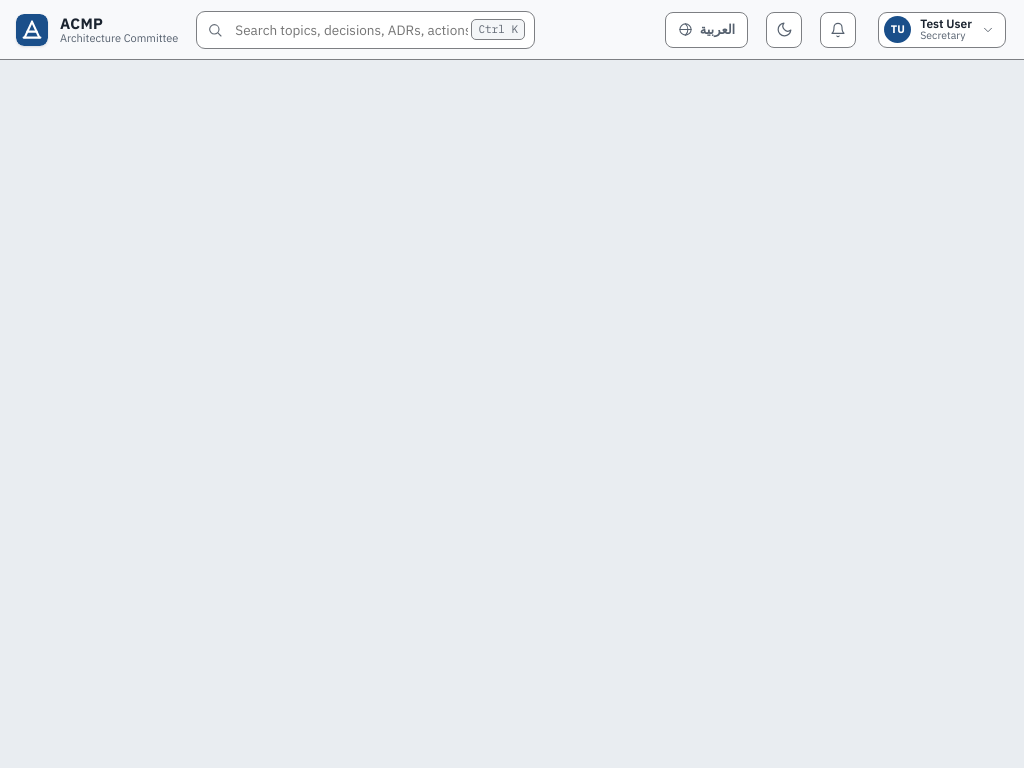
TopBar controls › closes the profile menu by clicking the backdrop
This screenshot has width=1024, height=768.
Click the button "TU Test User Secretary": coordinates (942, 30) [878,12,1006,48]
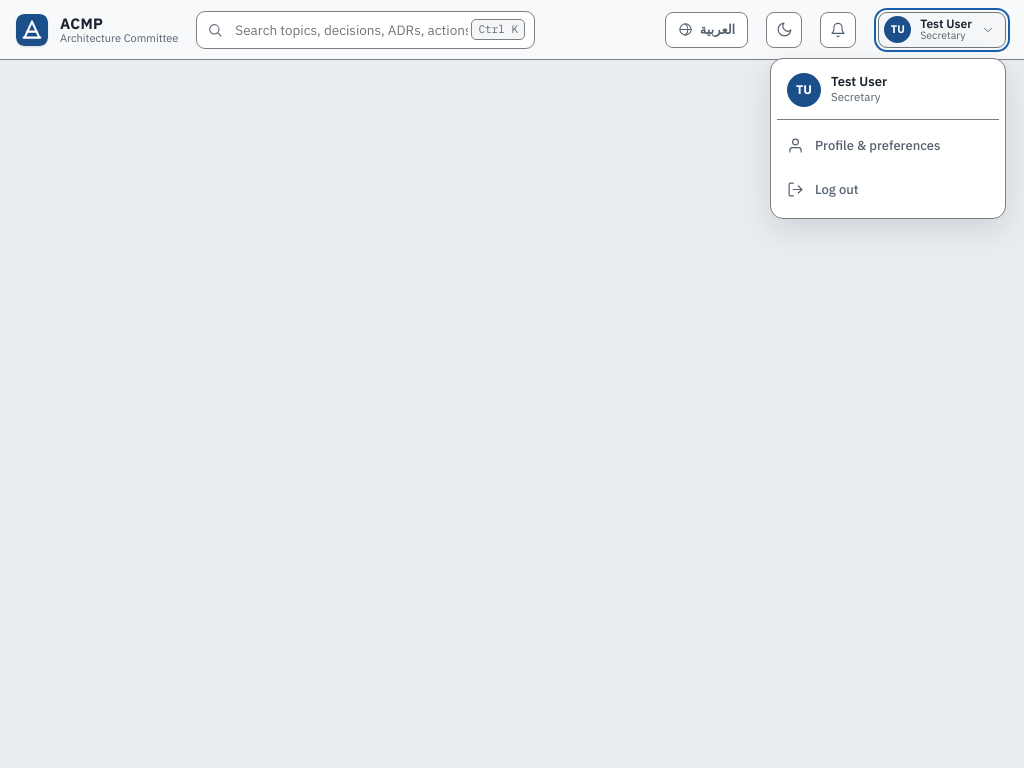
Expected: the menu is shown, [770,58,1006,218]
Click the element with class "profile-backdrop": coordinates (512, 384) [0,0,1023,767]
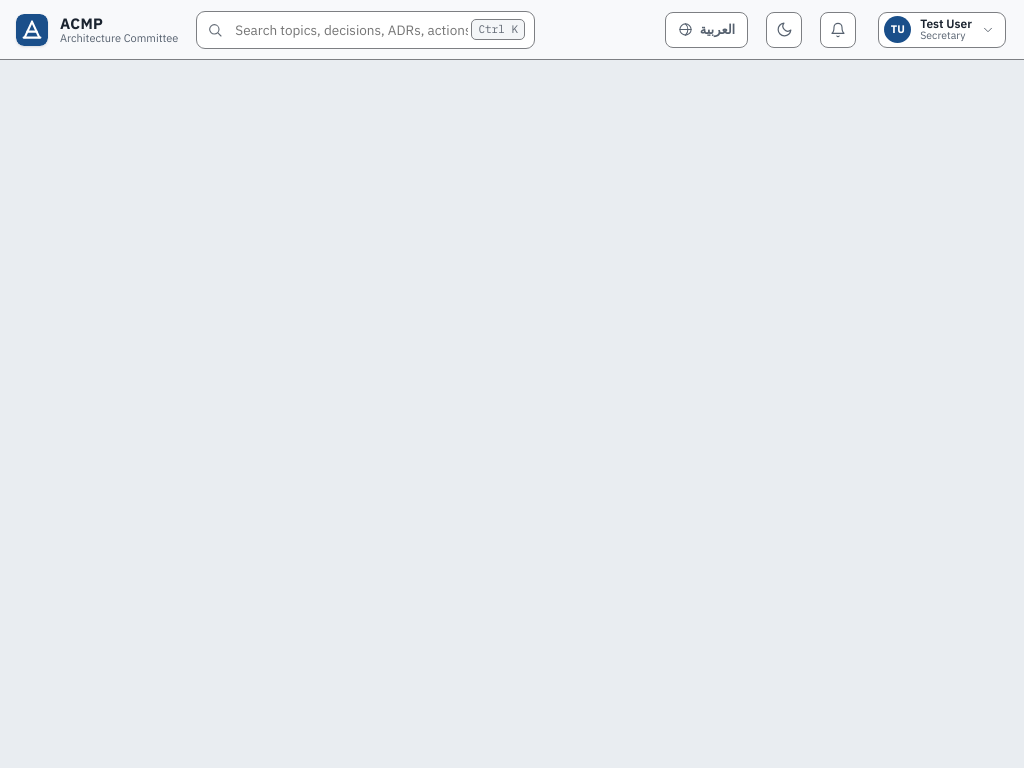
Expected: the menu is gone
